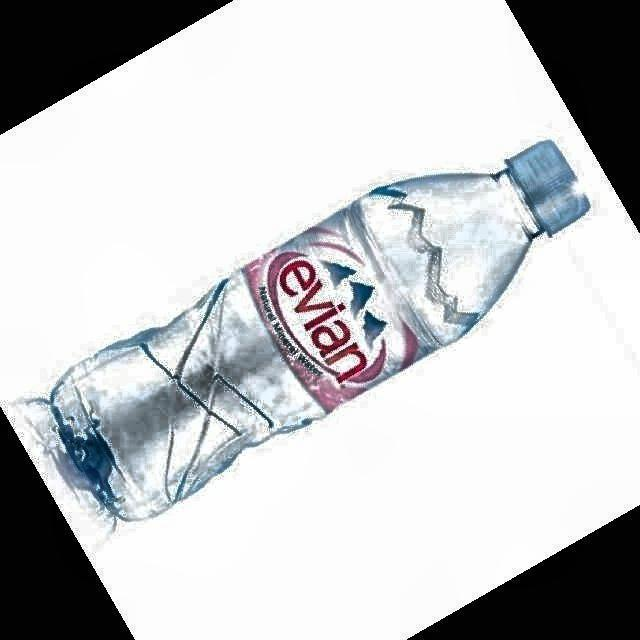plastic: (41, 141, 589, 519)
